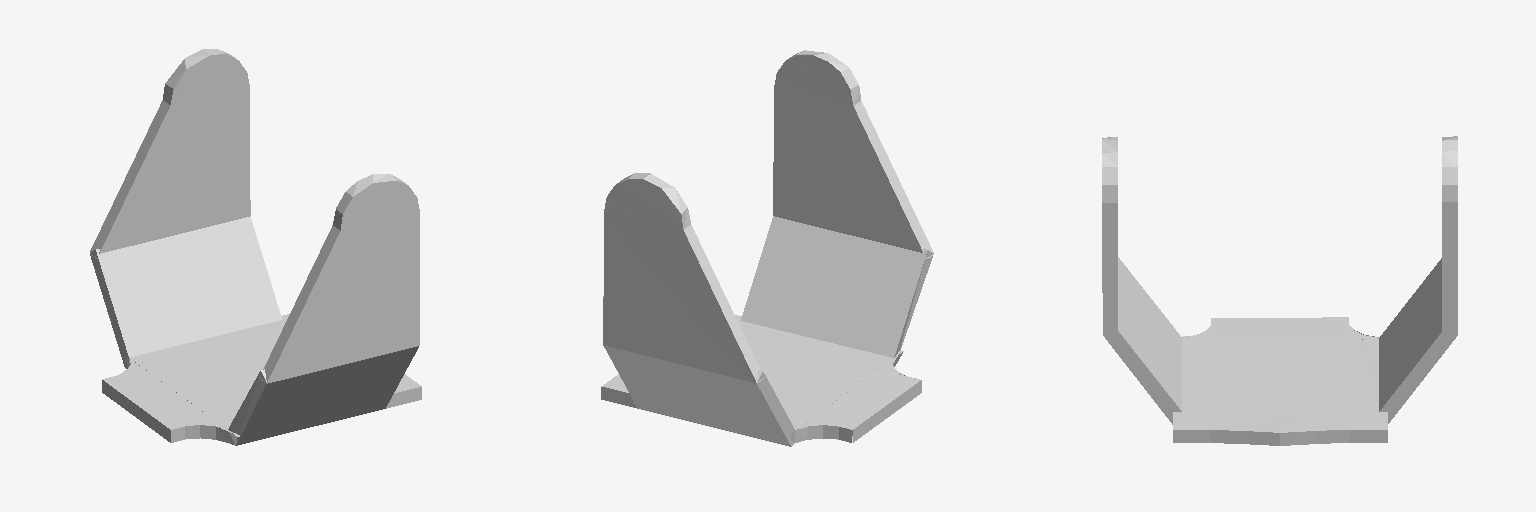
The picture shows the model from 3 angles: view 1: azimuth 30°, elevation 25°; view 2: azimuth 150°, elevation 25°; view 3: azimuth 270°, elevation 25°; orthographic projection.
Bounding box in the file's own units: 0.3593 × 0.3832 × 0.4641.
Materials: 1 (1 with a texture image).